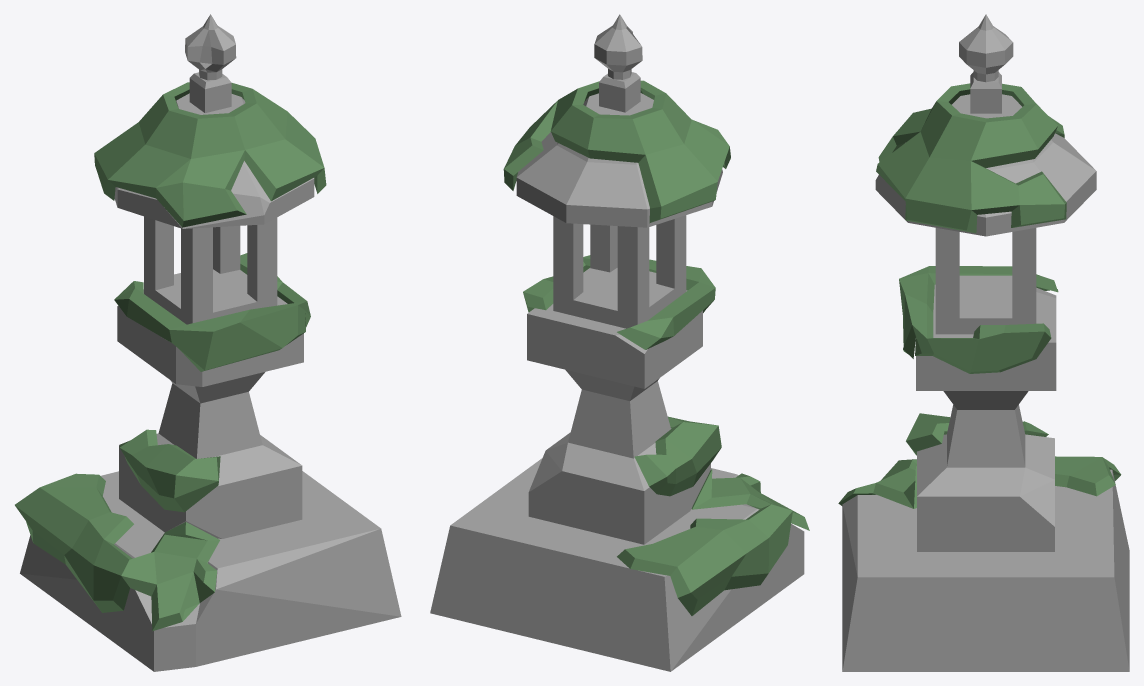
File: StoneLanternRoundedMoss.fbx
3 views of the same model, side by side, from view 1: azimuth 30°, elevation 25°; view 2: azimuth 150°, elevation 25°; view 3: azimuth 270°, elevation 25° (orthographic). The views are drawn at different scales.
Visible parts, largest first — view 1: StoneLanternRoundedMoss; view 2: StoneLanternRoundedMoss; view 3: StoneLanternRoundedMoss.
Part boxes in pixels (left/top/right/bottom): StoneLanternRoundedMoss: left=15, top=14, right=401, bottom=671; StoneLanternRoundedMoss: left=430, top=14, right=809, bottom=671; StoneLanternRoundedMoss: left=838, top=14, right=1129, bottom=671.
Size of the model in its own units: 108 by 235 by 104.
